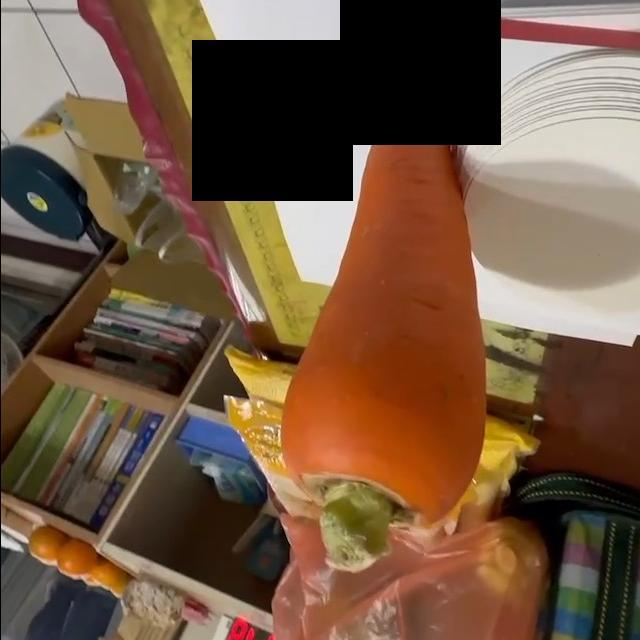carrot: (277, 89, 489, 577)
